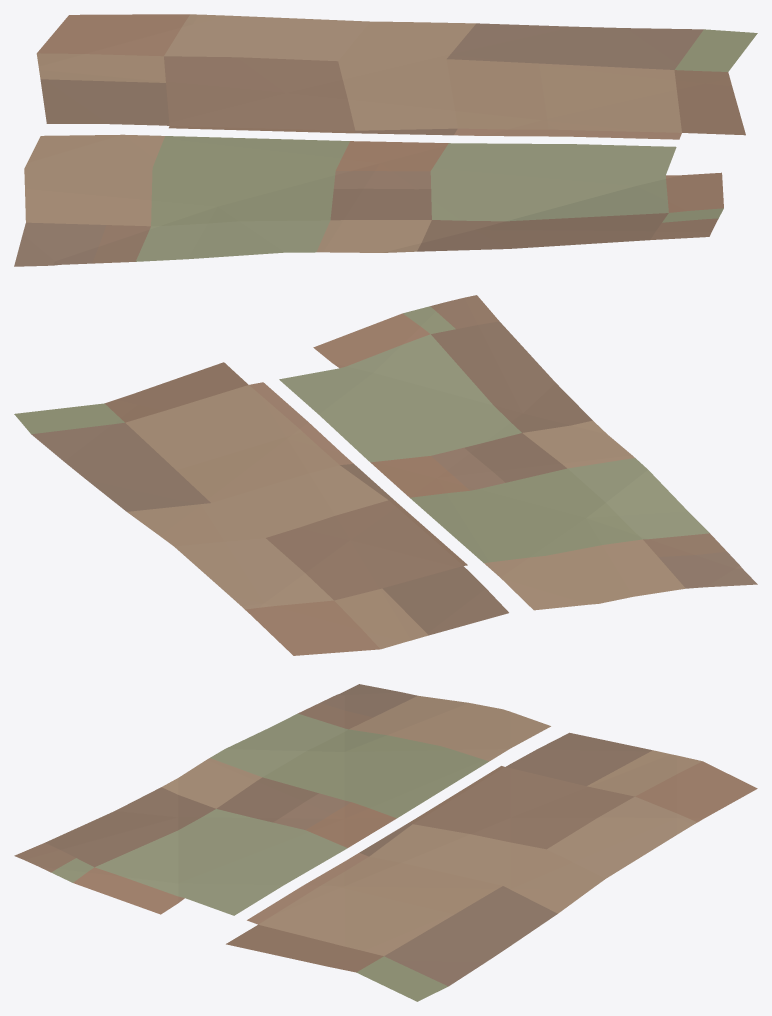
Rendered from farm_-31_-22_soil.glb.
The picture shows the model from 3 angles, top to bottom: view 1: azimuth 30°, elevation 25°; view 2: azimuth 150°, elevation 25°; view 3: azimuth 270°, elevation 25°; orthographic projection. The views are drawn at different scales.
Parts seen in each view (by area): view 1: geometry_0; view 2: geometry_0; view 3: geometry_0.
Boxes of the visible parts, box(x1,y1,x2,y2) form: geometry_0: box(14, 14, 757, 266); geometry_0: box(14, 295, 757, 655); geometry_0: box(14, 684, 757, 1001).
Bounding box in the file's own units: 382 × 23.66 × 358.
